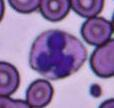N: (28, 28, 86, 79)
